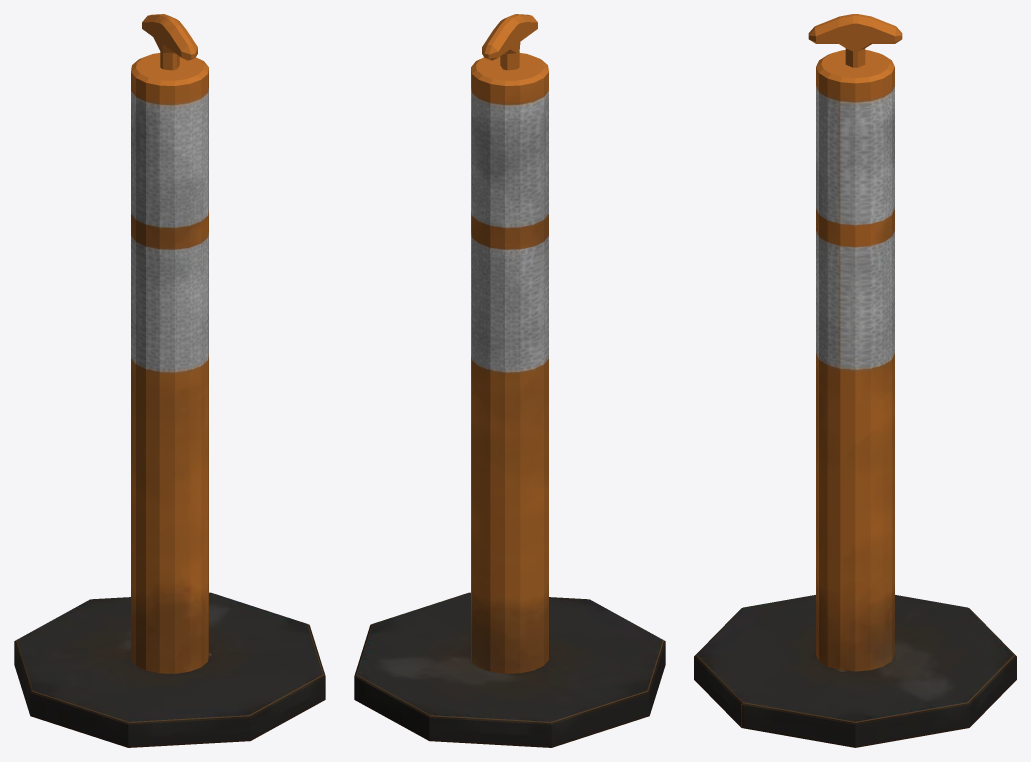
The model's file is strProp_05.glb.
3 renders of one model, left to right at view 1: azimuth 30°, elevation 25°; view 2: azimuth 150°, elevation 25°; view 3: azimuth 270°, elevation 25°, orthographic.
Visible parts, largest first — view 1: geometry_0; view 2: geometry_0; view 3: geometry_0.
Part boxes in pixels (bbox=[...]): geometry_0: bbox=[14, 14, 325, 747]; geometry_0: bbox=[354, 14, 665, 747]; geometry_0: bbox=[694, 14, 1016, 747].
Bounding box in the file's own units: 0.5056 × 1.15 × 0.5056.
1 material, 1 textured.
